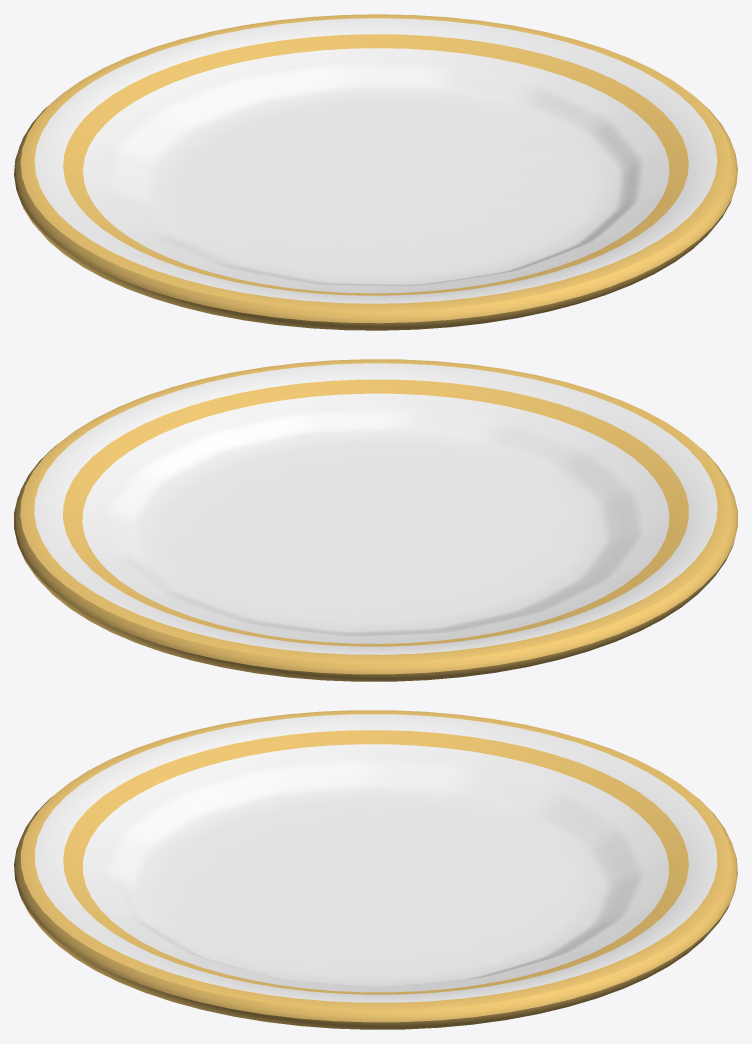
The model's file is YellowPlate2.fbx.
3 renders of one model, top to bottom at view 1: azimuth 30°, elevation 25°; view 2: azimuth 150°, elevation 25°; view 3: azimuth 270°, elevation 25°, orthographic.
Parts seen in each view (by area): view 1: Plate5; view 2: Plate5; view 3: Plate5.
Boxes of the visible parts, x1,y1,x2,y2 form: Plate5: (14, 14, 737, 330); Plate5: (14, 359, 737, 681); Plate5: (14, 710, 737, 1029).
Bounding box in the file's own units: 24.29 × 2.21 × 24.29.
Materials: 1 (1 with a texture image).
